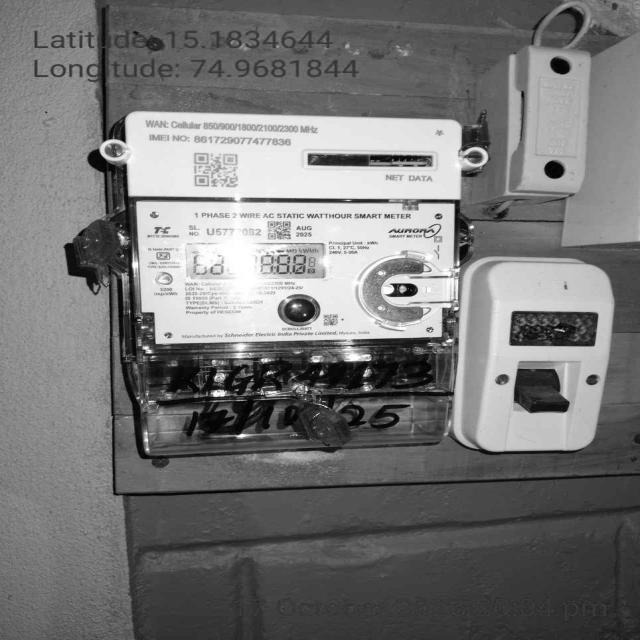meter: (126, 112, 463, 346)
